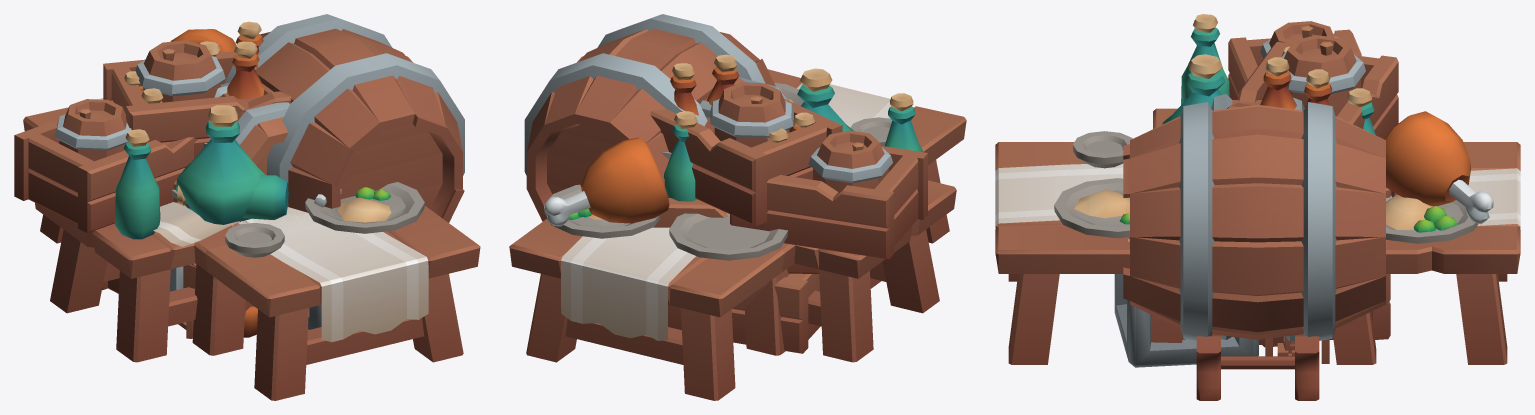
The model's file is market.glb.
3 renders of one model, left to right at view 1: azimuth 30°, elevation 25°; view 2: azimuth 150°, elevation 25°; view 3: azimuth 270°, elevation 25°, orthographic. The views are drawn at different scales.
Visible parts, largest first — view 1: keg_decorated, table_long_tablecloth_decorated_A, crates_stacked, table_medium_tablecloth_decorated_B, barrel_small_stack; view 2: keg_decorated, table_long_tablecloth_decorated_A, crates_stacked, table_medium_tablecloth_decorated_B; view 3: keg_decorated, table_long_tablecloth_decorated_A, crates_stacked, table_medium_tablecloth_decorated_B, barrel_small_stack, building_market_blue.
Part boxes in pixels (bbox=[...]): keg_decorated: bbox=[14, 14, 464, 362]; table_long_tablecloth_decorated_A: bbox=[23, 29, 480, 400]; crates_stacked: bbox=[102, 21, 321, 337]; table_medium_tablecloth_decorated_B: bbox=[172, 189, 309, 355]; barrel_small_stack: bbox=[169, 82, 289, 291]; keg_decorated: bbox=[524, 14, 956, 362]; table_long_tablecloth_decorated_A: bbox=[509, 69, 966, 400]; crates_stacked: bbox=[650, 54, 842, 353]; table_medium_tablecloth_decorated_B: bbox=[661, 151, 881, 355]; keg_decorated: bbox=[1123, 14, 1385, 400]; table_long_tablecloth_decorated_A: bbox=[995, 88, 1520, 364]; crates_stacked: bbox=[1114, 35, 1398, 367]; table_medium_tablecloth_decorated_B: bbox=[1129, 237, 1386, 364]; barrel_small_stack: bbox=[1210, 93, 1304, 344]; building_market_blue: bbox=[1265, 336, 1333, 363].
Bounding box in the file's own units: 3.52 × 2.15 × 4.
Materials: 2 (2 with a texture image).
